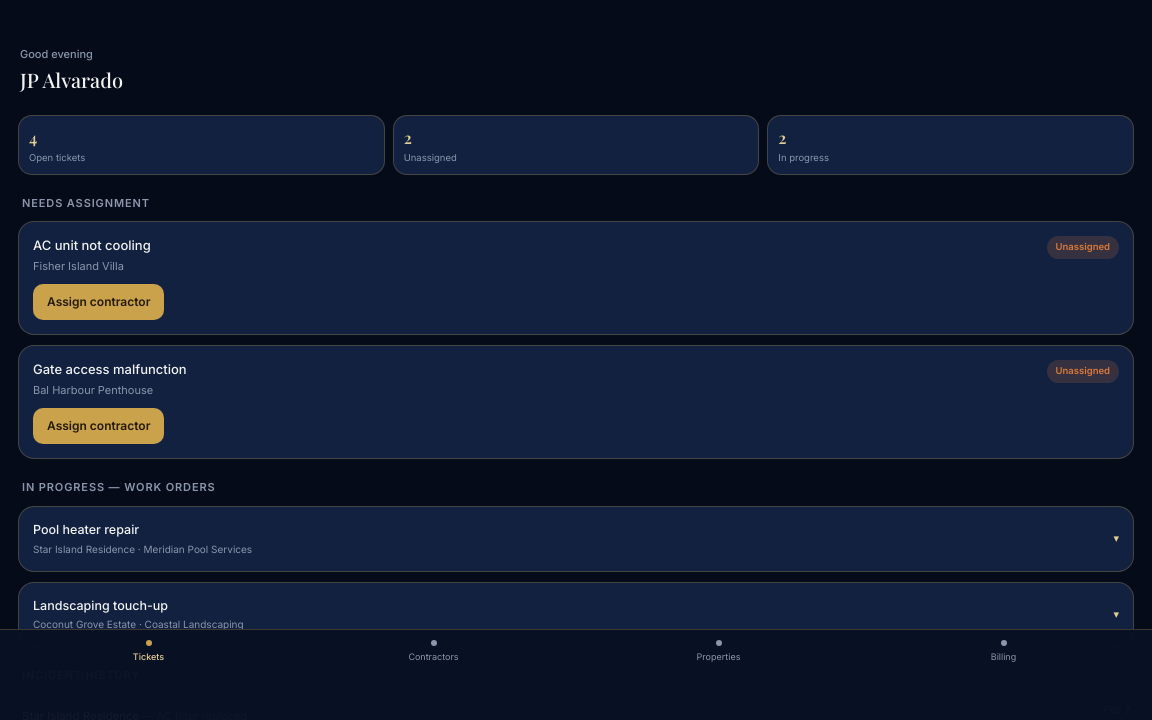
Admin: Ticket assignment flow (end to end through the UI) › opening the picker and choosing a contractor assigns the ticket and updates the counts
This screenshot has width=1152, height=720.
Step 1. Click the button "Assign contractor" below "AC unit not cooling" → (99, 302), box left=33, top=284, right=164, bottom=320
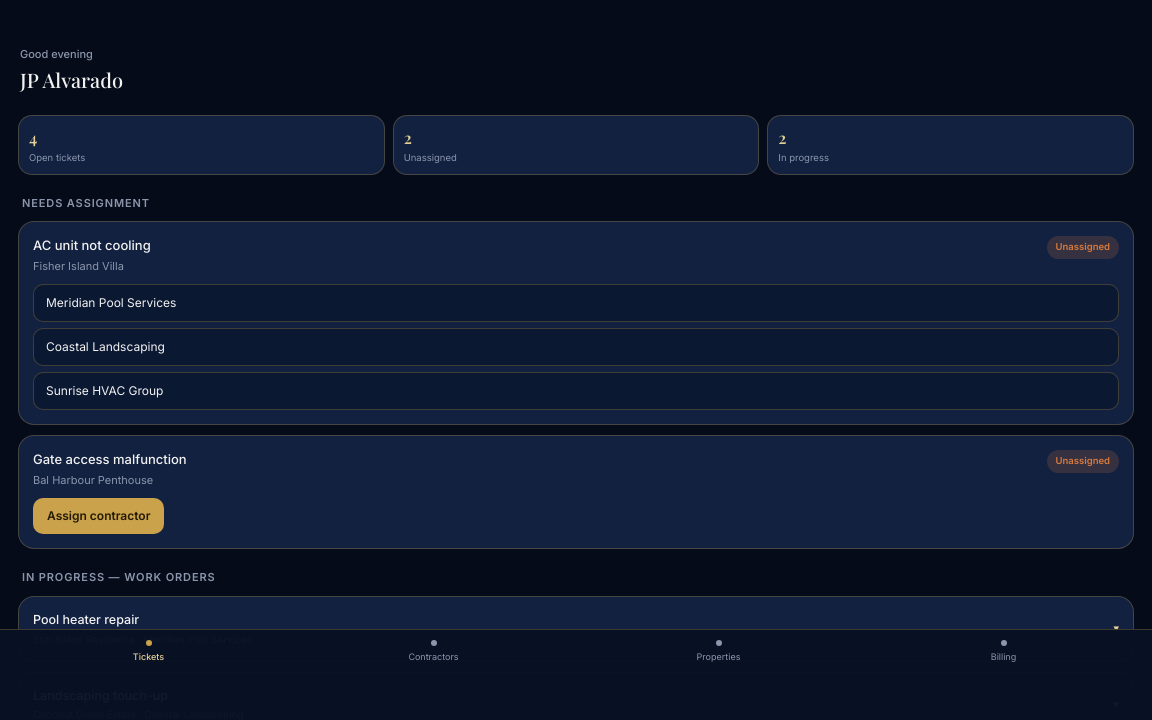
Step 2. Click the button "Meridian Pool Services" → (111, 303), box left=33, top=284, right=1119, bottom=322
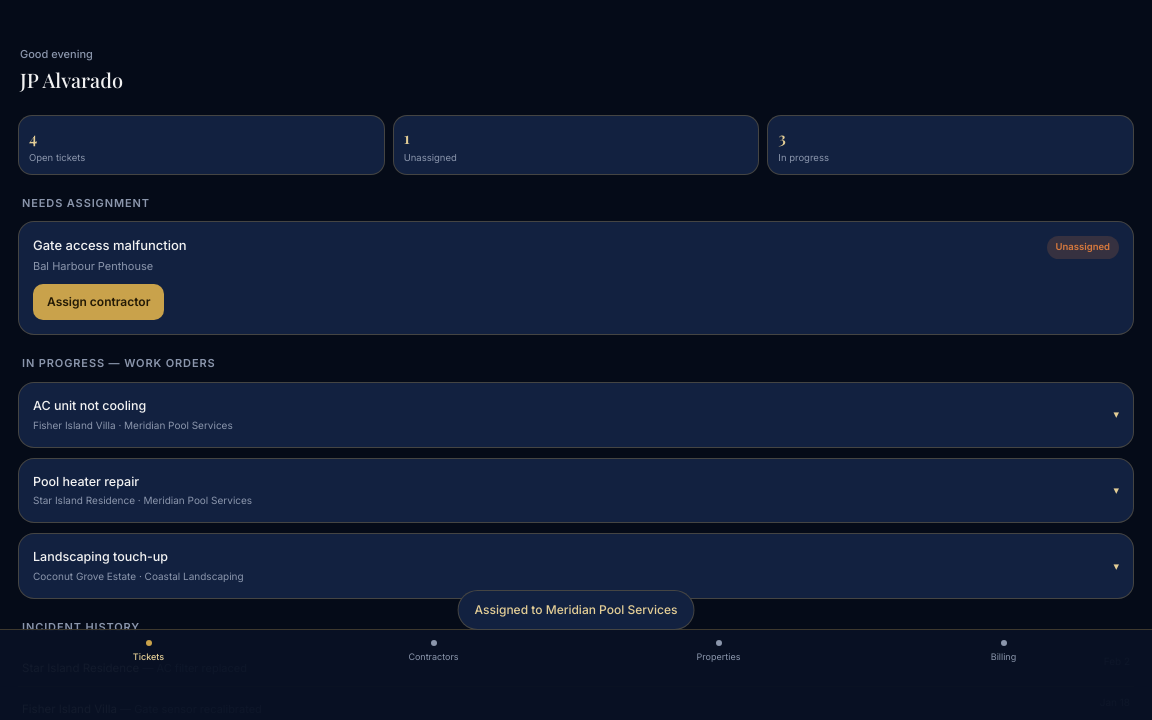
Check: the text "Assigned to Meridian Pool Services" is shown, box left=458, top=590, right=694, bottom=630
Check: the number of buttons "Assign contractor" is 1, box left=33, top=284, right=164, bottom=320
